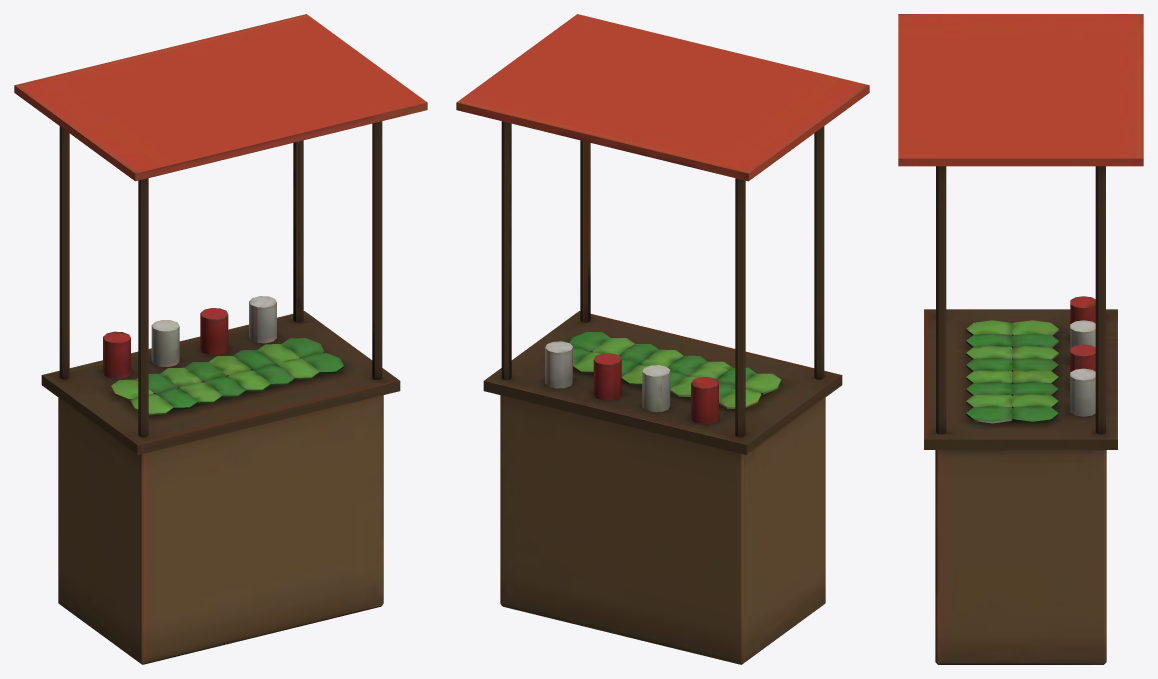
The model's file is paan_stall.glb.
3 renders of one model, left to right at view 1: azimuth 30°, elevation 25°; view 2: azimuth 150°, elevation 25°; view 3: azimuth 270°, elevation 25°, orthographic.
Visible parts, largest first — view 1: body; view 2: body; view 3: body.
Boxes of the visible parts, bbox=[...] form: body: bbox=[14, 14, 427, 664]; body: bbox=[456, 14, 869, 664]; body: bbox=[898, 14, 1143, 664].
Size of the model in its own units: 1.2 by 2.01 by 0.86.
Materials: 1 (1 with a texture image).
